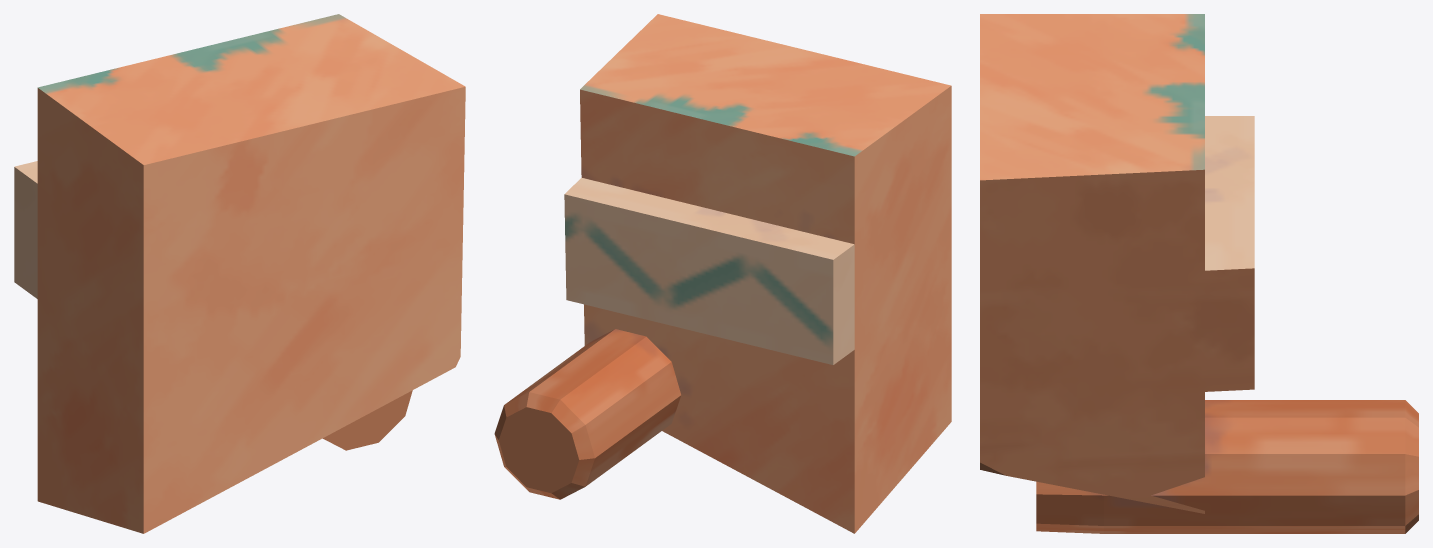
File: wall2_window_s11.fbx
3 renders of one model, left to right at view 1: azimuth 30°, elevation 25°; view 2: azimuth 150°, elevation 25°; view 3: azimuth 270°, elevation 25°, orthographic. The views are drawn at different scales.
Parts seen in each view (by area): view 1: wall2_window_s11; view 2: wall2_window_s11; view 3: wall2_window_s11.
Part boxes in pixels (box(x1,y1,x2,y2)): wall2_window_s11: box(14, 14, 465, 533); wall2_window_s11: box(494, 14, 951, 533); wall2_window_s11: box(980, 14, 1418, 533).
Bounding box in the file's own units: 1.75 × 2.15 × 1.95.
